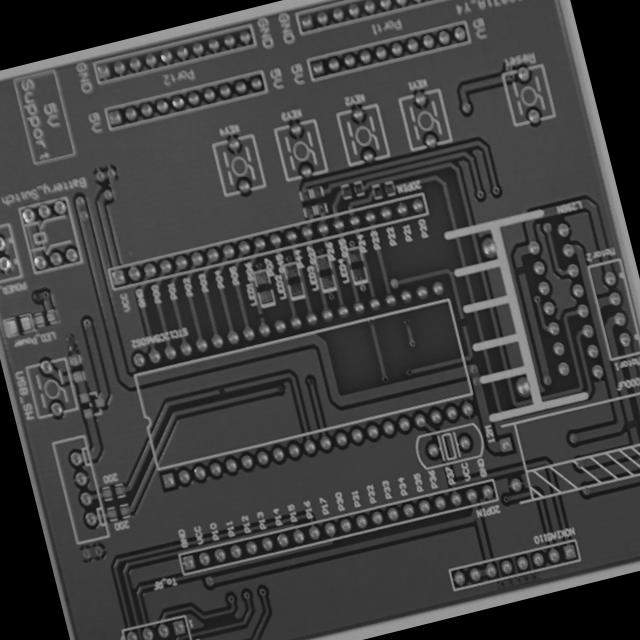open_circuit: (514, 260, 527, 280), (625, 414, 638, 432), (254, 308, 266, 322), (214, 384, 227, 396), (458, 315, 468, 330)
